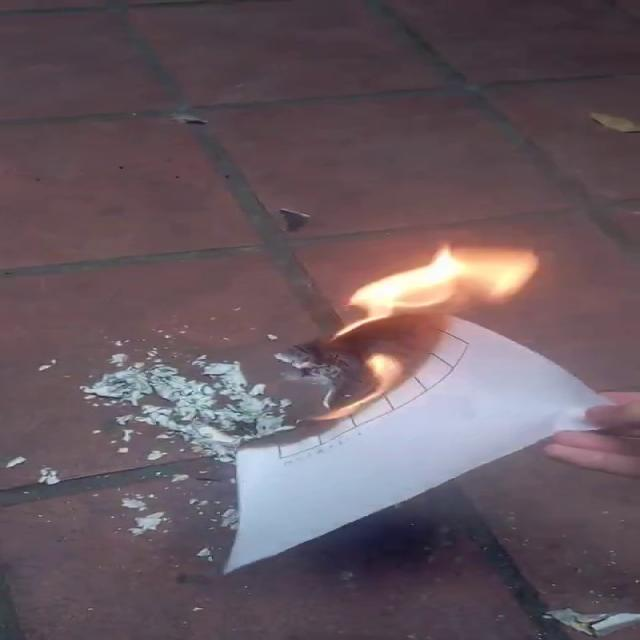Fire_Dangerous: (302, 237, 534, 425)
